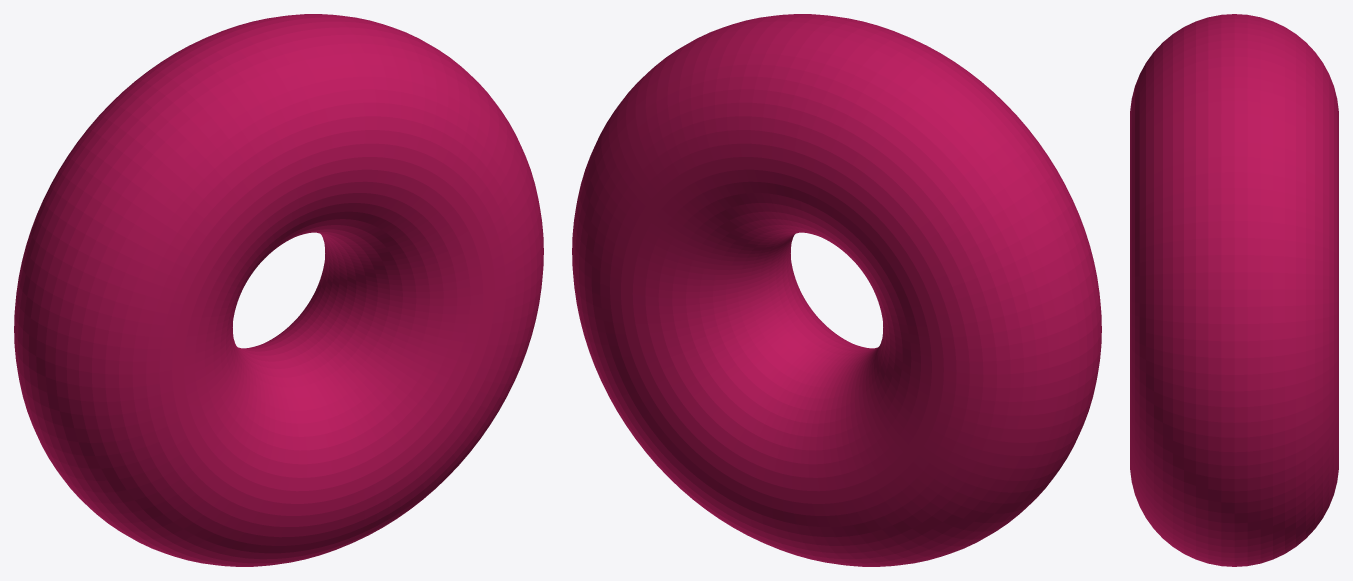
3 renders of one model, left to right at view 1: azimuth 30°, elevation 25°; view 2: azimuth 150°, elevation 25°; view 3: azimuth 270°, elevation 25°, orthographic. The views are drawn at different scales.
Visible parts, largest first — view 1: world; view 2: world; view 3: world.
Boxes of the visible parts, left/top/right/bottom form: world: left=14, top=14, right=543, bottom=566; world: left=572, top=14, right=1101, bottom=566; world: left=1130, top=14, right=1338, bottom=566.
Size of the model in its own units: 23.6 by 23.6 by 8.92.
